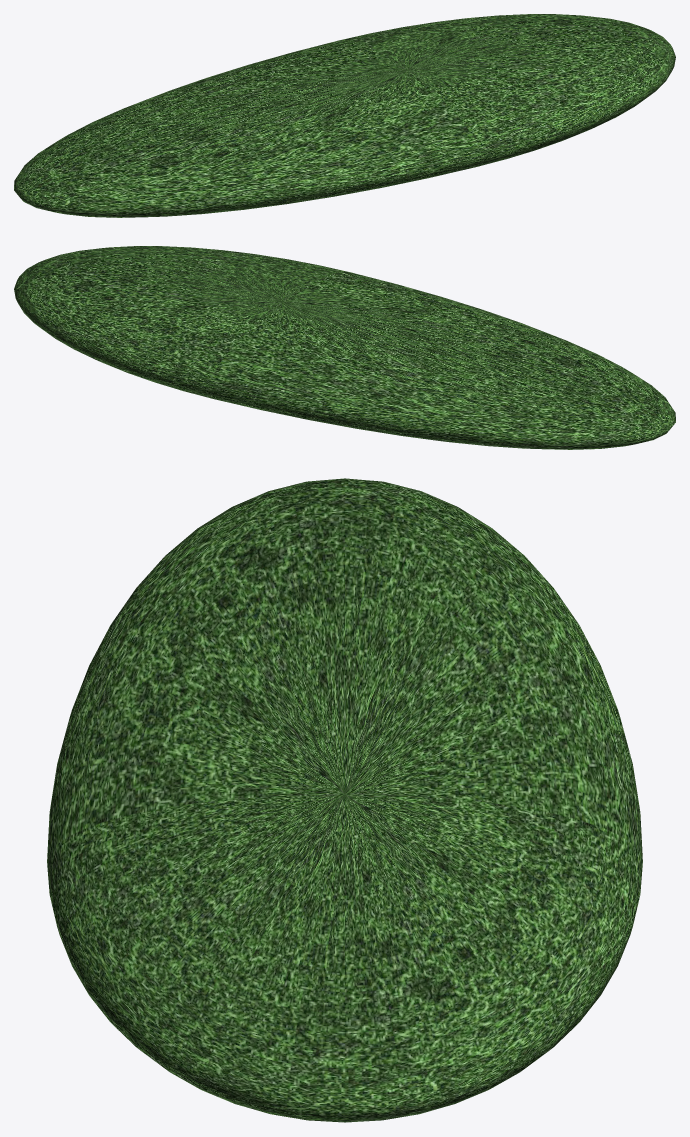
File: palm-tree-leaf.obj
3 views of the same model, one above another, from view 1: azimuth 30°, elevation 25°; view 2: azimuth 150°, elevation 25°; view 3: azimuth 270°, elevation 25° (orthographic). The views are drawn at different scales.
Visible parts, largest first — view 1: Merged_Meshes; view 2: Merged_Meshes; view 3: Merged_Meshes.
Boxes of the visible parts, x1,y1,x2,y2 form: Merged_Meshes: (14, 14, 675, 217); Merged_Meshes: (14, 246, 675, 449); Merged_Meshes: (47, 478, 642, 1122).
Bounding box in the file's own units: 2.5 × 0.25 × 1.
1 material, 1 textured.
